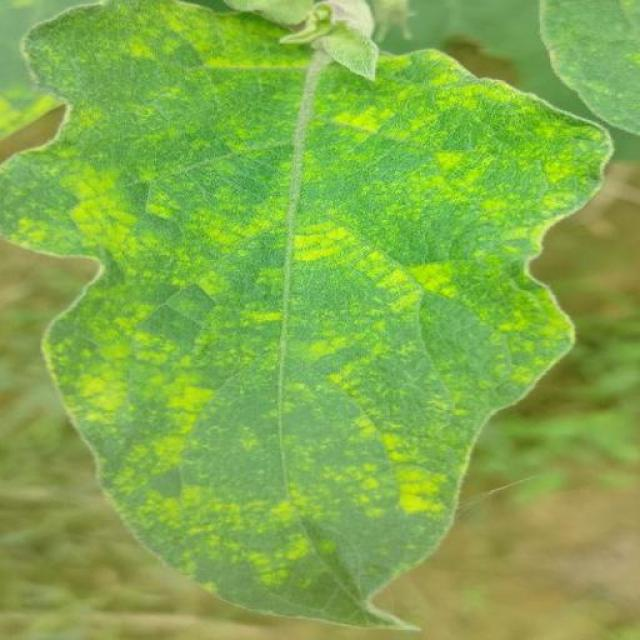leaf_spot: (100, 438, 322, 593), (84, 246, 222, 463), (332, 368, 464, 550), (309, 3, 497, 125), (118, 0, 325, 98), (391, 117, 539, 247), (115, 161, 294, 268), (0, 138, 116, 267), (470, 86, 608, 192), (231, 473, 336, 600), (468, 286, 582, 392), (340, 240, 480, 322), (300, 70, 418, 159), (62, 147, 132, 257), (466, 218, 547, 312), (280, 196, 357, 278), (292, 325, 366, 397), (68, 95, 116, 146)
